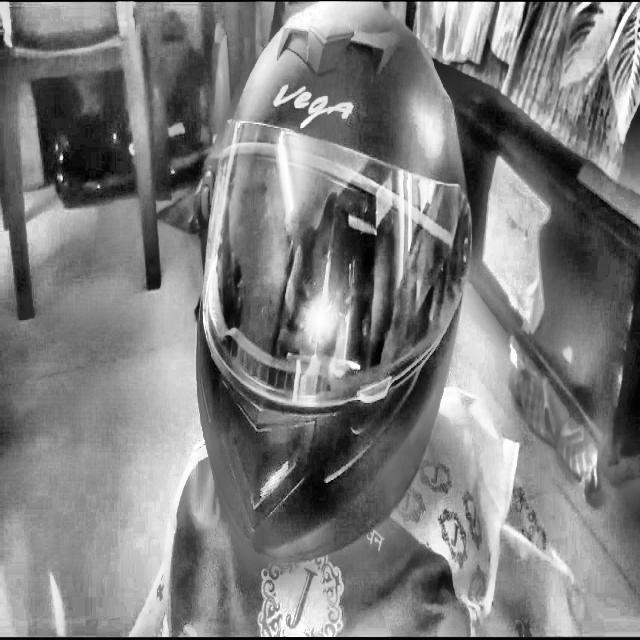Helmet: (192, 0, 479, 570)
